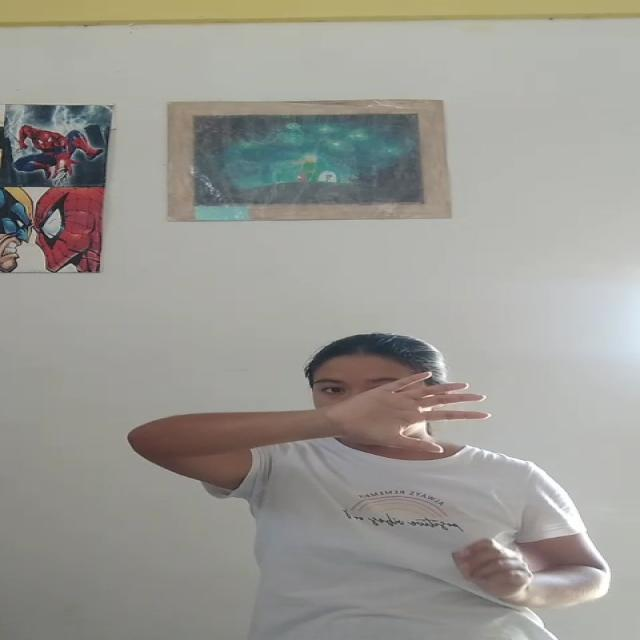7_mano_rostro: (230, 375, 478, 455)
